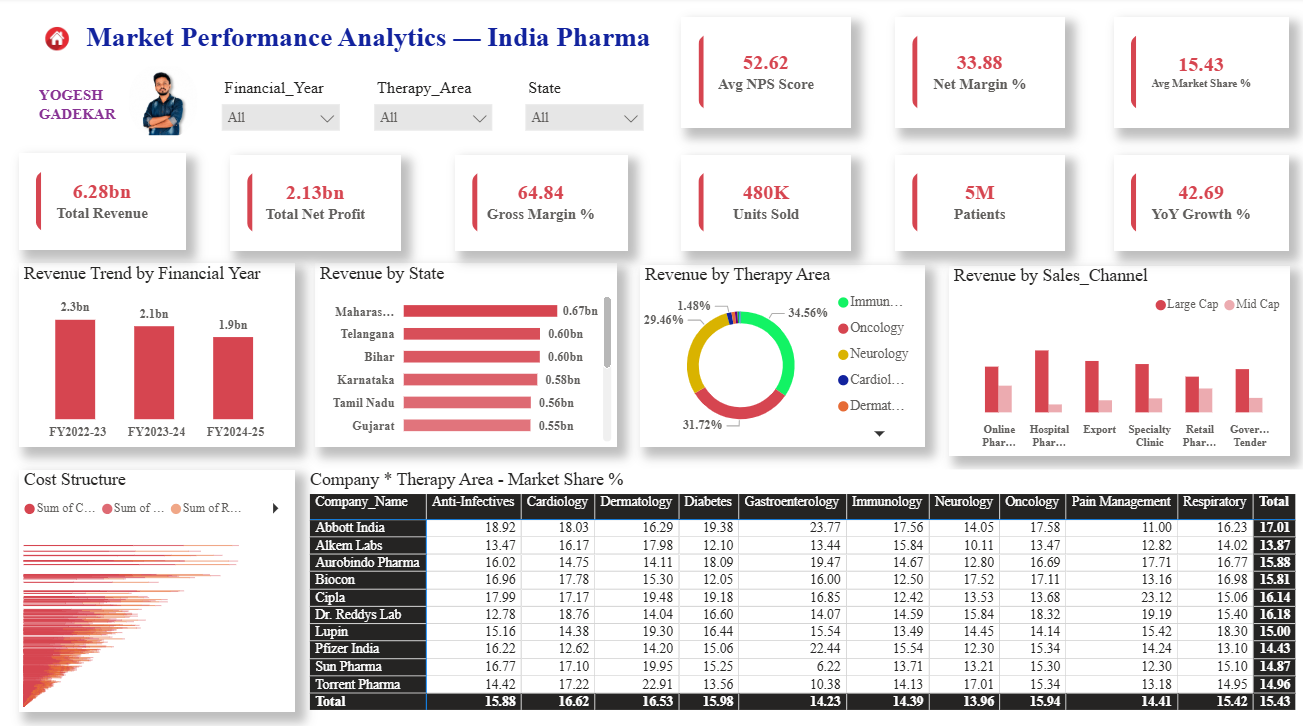

What the dashboard file says about the page in this screenshot:
{"tool":"powerbi","page":{"name":"Page 1","canvas":[1280,720],"ordinal":0},"visuals":[{"type":"cardVisual","fields":{"Data":["market_performance_india.Total Revenue"]},"box":[17.8,152.3,163.3,94.7],"z":0},{"type":"cardVisual","fields":{"Data":["market_performance_india.Total Net Profit"]},"box":[225,153.7,167.4,94.7],"z":1000},{"type":"cardVisual","fields":{"Data":["market_performance_india.Gross Margin %"]},"box":[444.6,153.7,168.8,94.7],"z":2000},{"type":"cardVisual","fields":{"Data":["market_performance_india.Total Units Sold"]},"box":[666.9,153.7,166,94.7],"z":3000},{"type":"cardVisual","fields":{"Data":["market_performance_india.YoY Revenue Growth %"]},"box":[1089.5,153.7,171.5,94.7],"z":4000},{"type":"cardVisual","fields":{"Data":["market_performance_india.Total Patients Reached"]},"box":[875.5,153.7,166,94.7],"z":5000},{"type":"lineStackedColumnComboChart","title":"Revenue Trend by Financial Year","fields":{"Category":["market_performance_india.Financial_Year"],"Y":["market_performance_india.Total Revenue"]},"box":[17.8,260.7,270.3,179.8],"z":6000},{"type":"donutChart","title":"Revenue by Therapy Area","fields":{"Category":["market_performance_india.Therapy_Area"],"Y":["market_performance_india.Total Revenue"]},"box":[625.7,262.1,278.6,178.4],"z":7000},{"type":"barChart","title":"Revenue by State","fields":{"Category":["market_performance_india.State"],"Y":["market_performance_india.Total Revenue"]},"box":[308.7,260.7,295,179.8],"z":8000},{"type":"clusteredColumnChart","title":"Revenue by Sales_Channel","fields":{"Category":["market_performance_india.Sales_Channel"],"Y":["market_performance_india.Total Revenue"],"Series":["market_performance_india.Company_Segment"]},"box":[927.6,263.5,333.4,186.6],"z":9000},{"type":"cardVisual","fields":{"Data":["market_performance_india.Avg NPS Score"]},"box":[666.9,19.2,166,108.4],"z":10000},{"type":"cardVisual","fields":{"Data":["market_performance_india.Net Margin %"]},"box":[875.5,19.2,166,108.4],"z":11000},{"type":"cardVisual","fields":{"Data":["market_performance_india.Avg Market Share %"]},"box":[1089.5,19.2,171.5,108.4],"z":12000},{"type":"pivotTable","title":"Company * Therapy Area - Market Share %","fields":{"Rows":["market_performance_india.Company_Name"],"Columns":["market_performance_india.Therapy_Area"],"Values":["market_performance_india.Avg Market Share %"]},"box":[297.8,462.4,982.5,248.4],"z":13000},{"type":"barChart","title":"Cost Structure","fields":{"Category":["market_performance_india.Gross_Revenue_INR"],"Y":["Sum(market_performance_india.COGS_INR)","Sum(market_performance_india.Marketing_Spend_INR)","Sum(market_performance_india.RnD_Spend_INR)","Sum(market_performance_india.Regulatory_Spend_INR)"]},"box":[17.8,462.4,270.3,237.4],"z":14000},{"type":"slicer","fields":{"Values":["market_performance_india.Financial_Year"]},"box":[207.2,74.1,135.8,60.4],"z":15000},{"type":"slicer","fields":{"Values":["market_performance_india.Therapy_Area"]},"box":[355.4,74.1,135.8,60.4],"z":16000},{"type":"slicer","fields":{"Values":["market_performance_india.State"]},"box":[503.6,74.1,135.8,60.4],"z":17000},{"type":"textbox","box":[79.6,19.2,575,45.3],"z":18000},{"type":"image","box":[126.2,64.5,67.2,74.1],"z":19000},{"type":"textbox","box":[32.9,82.3,93.3,52.1],"z":20000},{"type":"image","box":[32.9,19.2,45.3,42.5],"z":21000}]}

Visuals, with their boxes in screenshot pixels (x1, y1, x2, y2), scaled from the page's 1280x720 canvas onto the 1303x726 screenshot:
cardVisual - market_performance_india.Total Revenue: [18,154,184,249]
cardVisual - market_performance_india.Total Net Profit: [229,155,399,250]
cardVisual - market_performance_india.Gross Margin %: [453,155,624,250]
cardVisual - market_performance_india.Total Units Sold: [679,155,848,250]
cardVisual - market_performance_india.YoY Revenue Growth %: [1109,155,1284,250]
cardVisual - market_performance_india.Total Patients Reached: [891,155,1060,250]
"Revenue Trend by Financial Year" lineStackedColumnComboChart: [18,263,293,444]
"Revenue by Therapy Area" donutChart: [637,264,921,444]
"Revenue by State" barChart: [314,263,615,444]
"Revenue by Sales_Channel" clusteredColumnChart: [944,266,1284,454]
cardVisual - market_performance_india.Avg NPS Score: [679,19,848,129]
cardVisual - market_performance_india.Net Margin %: [891,19,1060,129]
cardVisual - market_performance_india.Avg Market Share %: [1109,19,1284,129]
"Company * Therapy Area - Market Share %" pivotTable: [303,466,1302,717]
"Cost Structure" barChart: [18,466,293,706]
slicer - market_performance_india.Financial_Year: [211,75,349,136]
slicer - market_performance_india.Therapy_Area: [362,75,500,136]
slicer - market_performance_india.State: [513,75,651,136]
textbox: [81,19,666,65]
image: [128,65,197,140]
textbox: [33,83,128,136]
image: [33,19,80,62]
